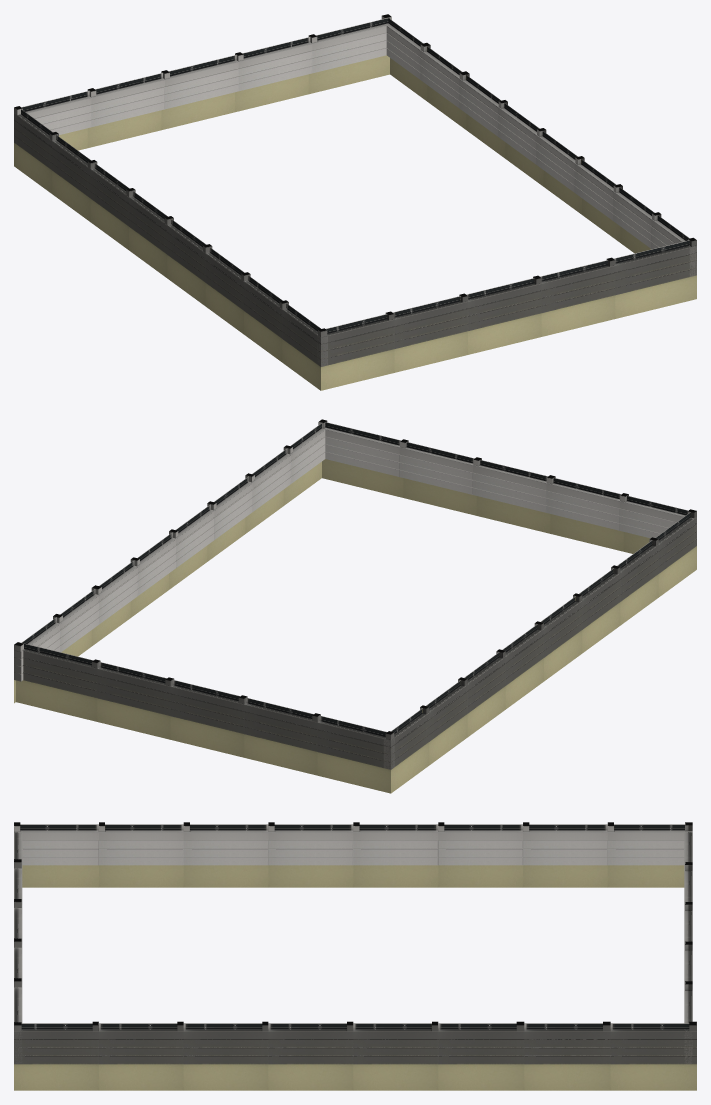
File: Walls.glb
3 views of the same model, one above another, from view 1: azimuth 30°, elevation 25°; view 2: azimuth 150°, elevation 25°; view 3: azimuth 270°, elevation 25° (orthographic). The views are drawn at different scales.
Parts seen in each view (by area): view 1: Walls; view 2: Walls; view 3: Walls.
Boxes of the visible parts, x1,y1,x2,y2 form: Walls: (14,14,696,390); Walls: (14,419,696,793); Walls: (14,822,696,1090).
Size of the model in its own units: 53.4 by 8 by 75.93.
Materials: 1 (1 with a texture image).
